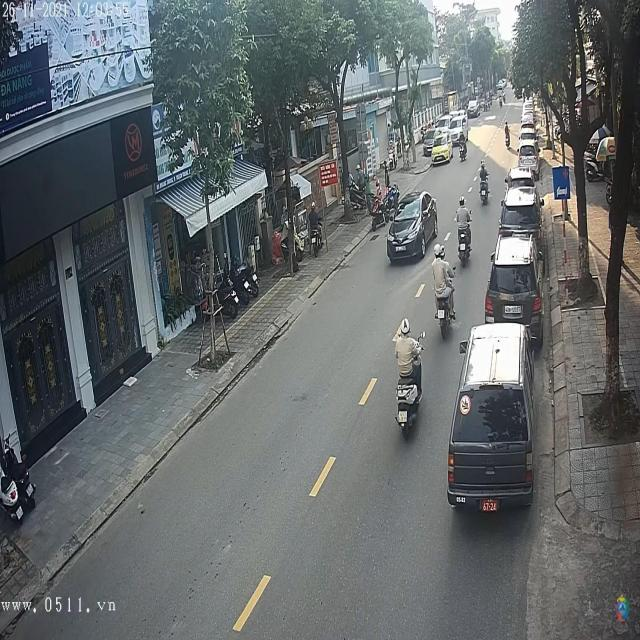car: (448, 318, 533, 511), (486, 243, 542, 339), (386, 191, 438, 265), (498, 190, 542, 238), (468, 99, 480, 118)
motorcycle: (396, 365, 426, 441), (433, 285, 456, 324), (456, 224, 475, 268)
